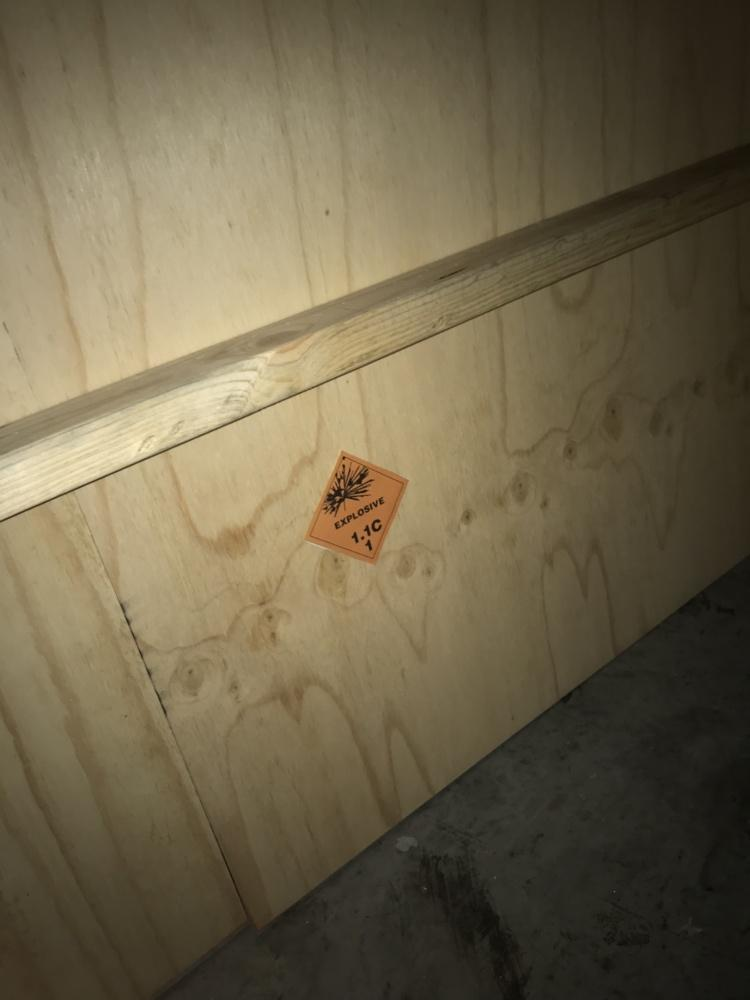explosive: (306, 454, 409, 562)
